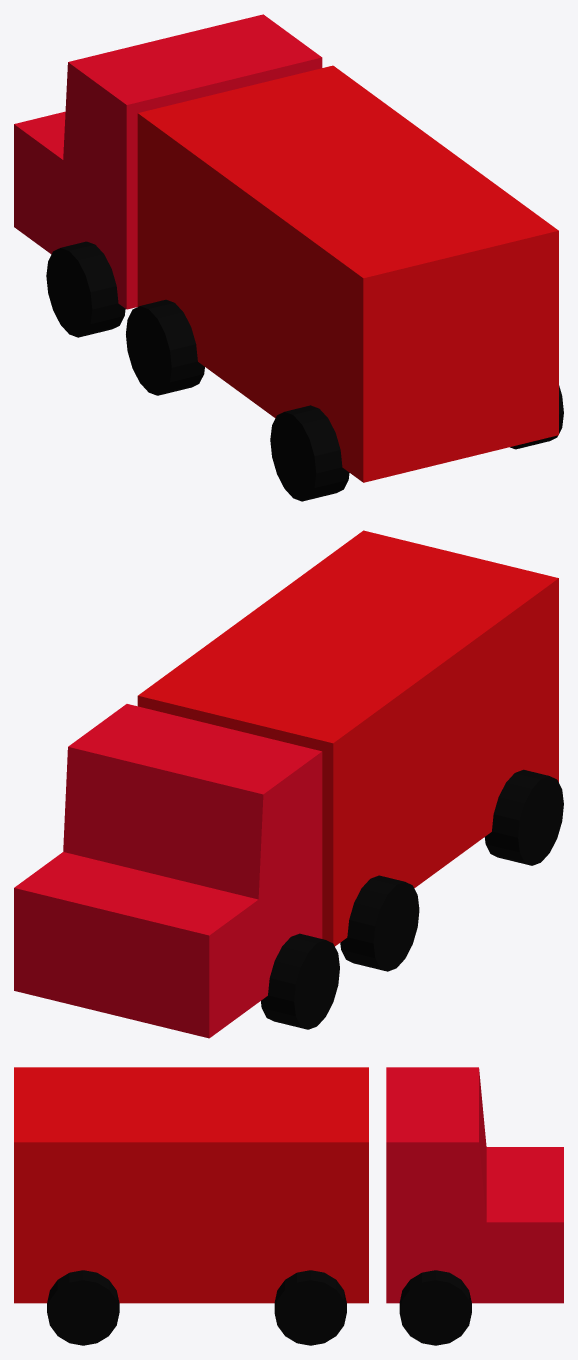
File: Cars.fbx
3 views of the same model, one above another, from view 1: azimuth 30°, elevation 25°; view 2: azimuth 150°, elevation 25°; view 3: azimuth 270°, elevation 25° (orthographic). The views are drawn at different scales.
Visible parts, largest first — view 1: Cube, Cube.002, Cube.001; view 2: Cube, Cube.002, Cube.001; view 3: Cube, Cube.002, Cube.001.
Boxes of the visible parts, box(x1,y1,x2,y2) form: Cube: box(137, 65, 558, 482); Cube.002: box(14, 14, 322, 309); Cube.001: box(46, 241, 563, 501); Cube: box(137, 530, 558, 946); Cube.002: box(14, 704, 322, 1038); Cube.001: box(261, 769, 563, 1029); Cube: box(14, 1067, 368, 1303); Cube.002: box(386, 1067, 563, 1303); Cube.001: box(47, 1270, 471, 1345).
Bounding box in the file's own units: 254 × 240 × 619.
